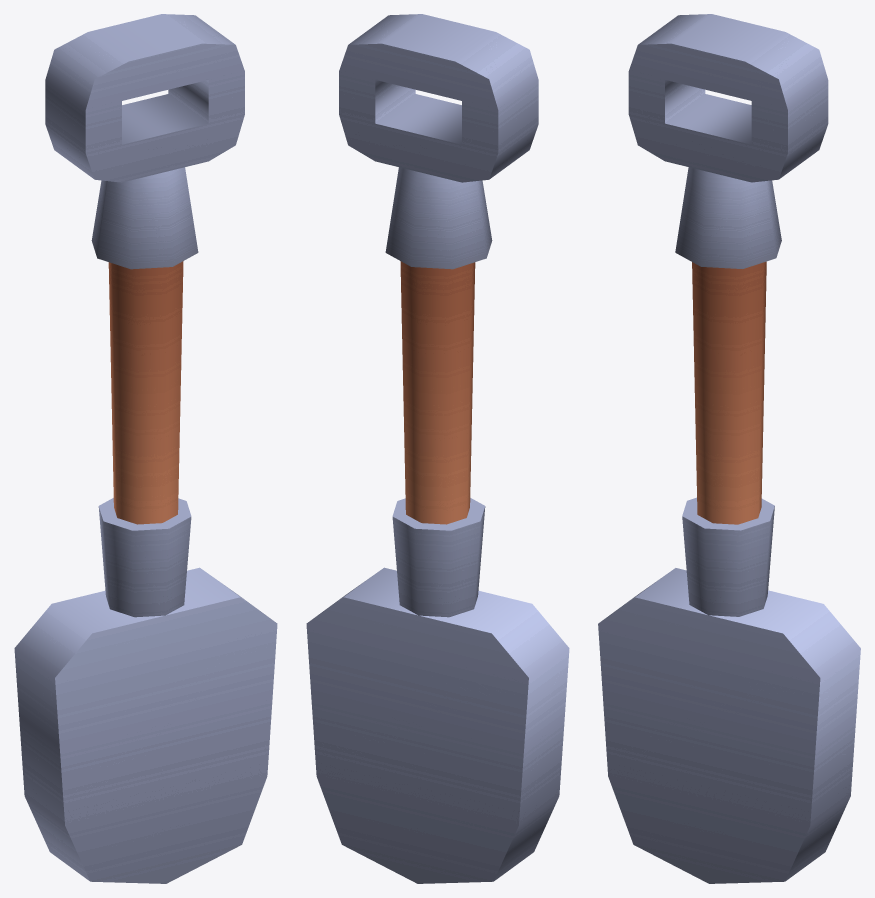
File: tool-shovel.glb
3 renders of one model, left to right at view 1: azimuth 30°, elevation 25°; view 2: azimuth 150°, elevation 25°; view 3: azimuth 330°, elevation 25°, orthographic.
Visible parts, largest first — view 1: tool-shovel; view 2: tool-shovel; view 3: tool-shovel.
Boxes of the visible parts, x1,y1,x2,y2 form: tool-shovel: (14,14,277,883); tool-shovel: (306,14,569,883); tool-shovel: (598,14,860,883).
Bounding box in the file's own units: 0.6578 × 2.35 × 0.2829.
Materials: 1 (1 with a texture image).
